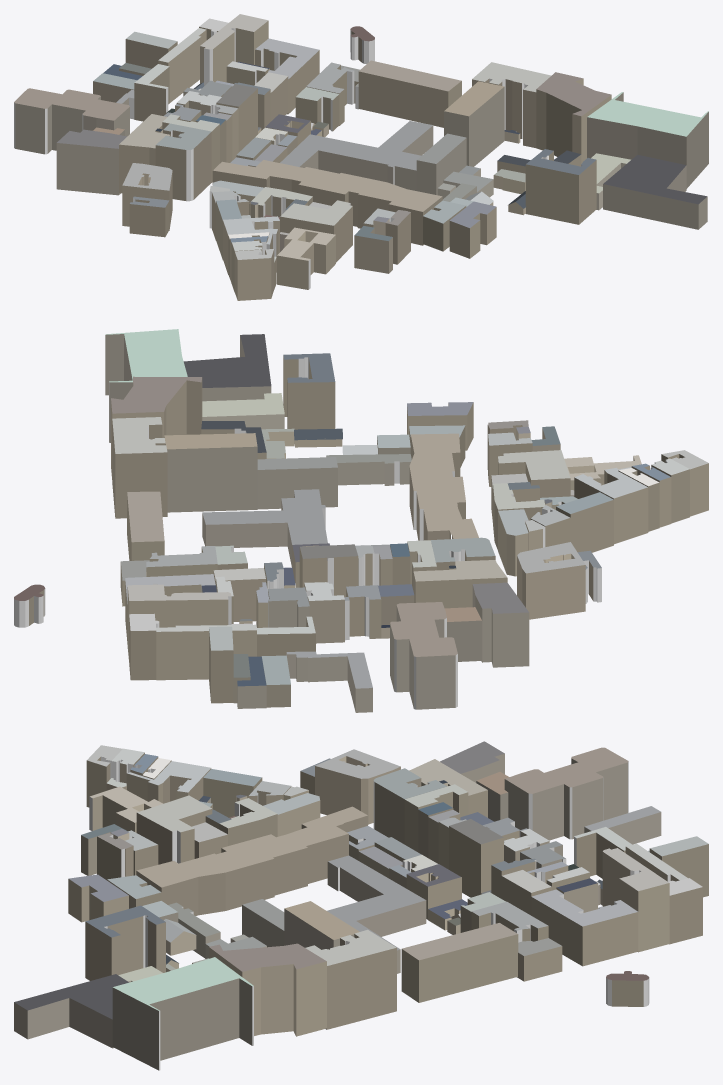
3 views of the same model, one above another, from view 1: azimuth 30°, elevation 25°; view 2: azimuth 150°, elevation 25°; view 3: azimuth 270°, elevation 25° (orthographic). The views are drawn at different scales.
Parts seen in each view (by area): view 1: tuile; view 2: tuile; view 3: tuile.
Part boxes in pixels (x1,y1,x2,y2): tuile: (14,14,708,300); tuile: (14,329,708,712); tuile: (14,741,708,1070).
Bounding box in the file's own units: 282 × 35.19 × 292.
